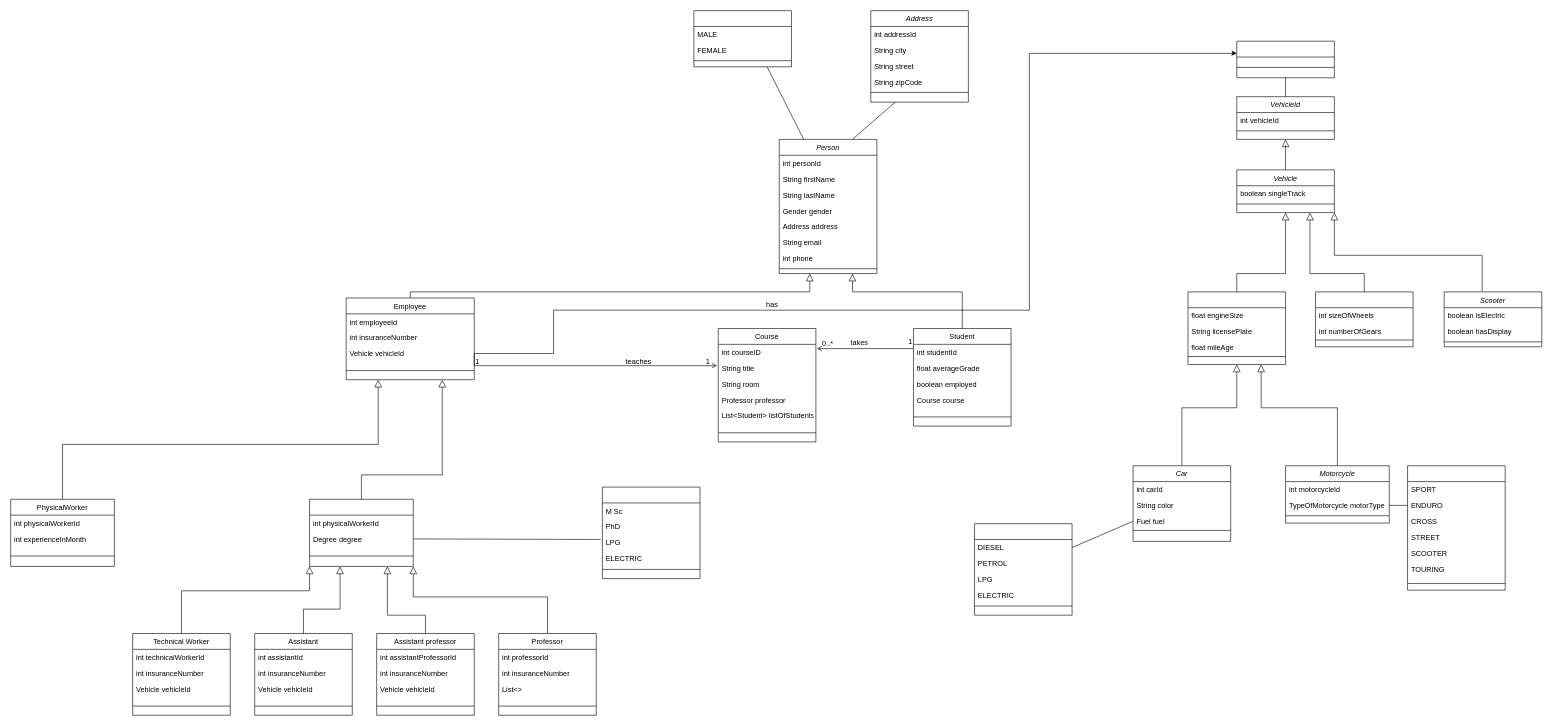
Some shapes in this 1552 by 726 pixel diagram are drawn without their labels. Each missing label, with the box of its shape:
Bike: (1315, 291, 1413, 347)
Combustion Vehicle: (1187, 291, 1286, 364)
Degree: (602, 486, 700, 579)
Fuel: (974, 523, 1072, 615)
Gender: (693, 10, 791, 67)
OfficeWorker: (309, 499, 413, 566)
TypeOfMotorcycle: (1407, 465, 1505, 590)
VehicleInterface: (1236, 41, 1334, 78)
